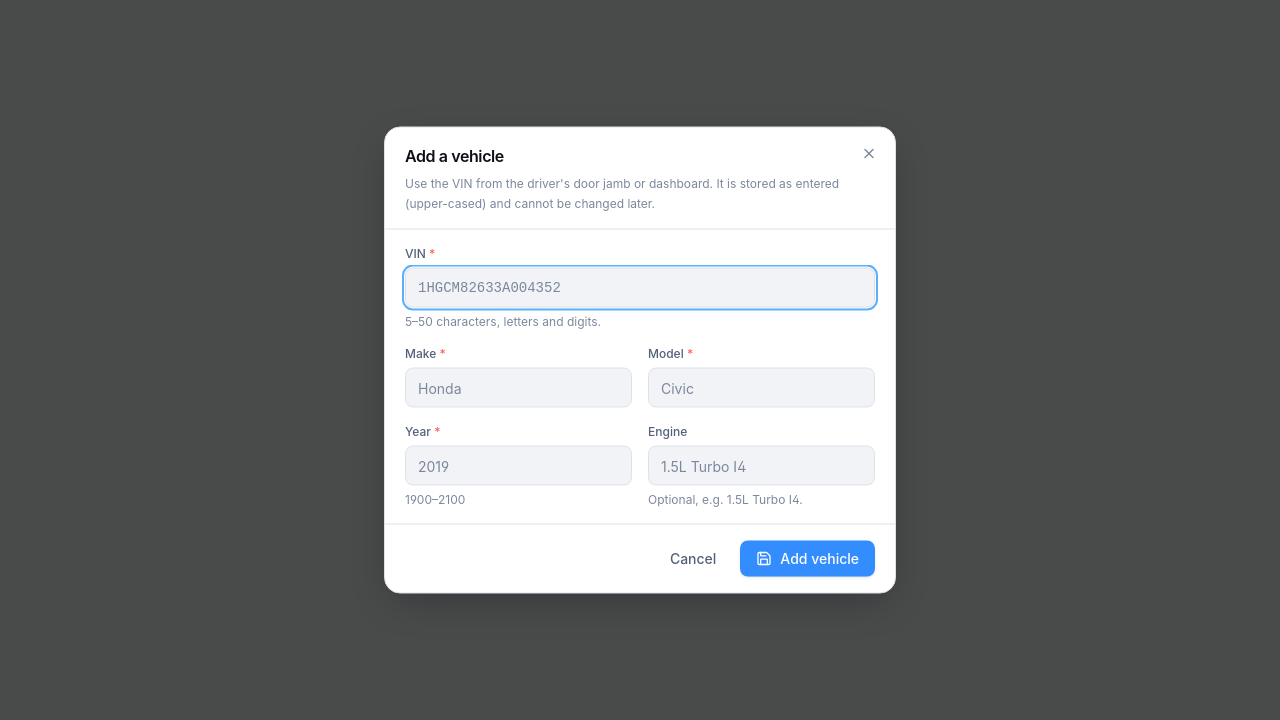
Scenario: VehicleFormDialog › enforces the backend's VIN and year bounds before submitting
The width and height of the screenshot is (1280, 720).
Click the button "Add vehicle" at x=808, y=558, box [740,540,875,576]
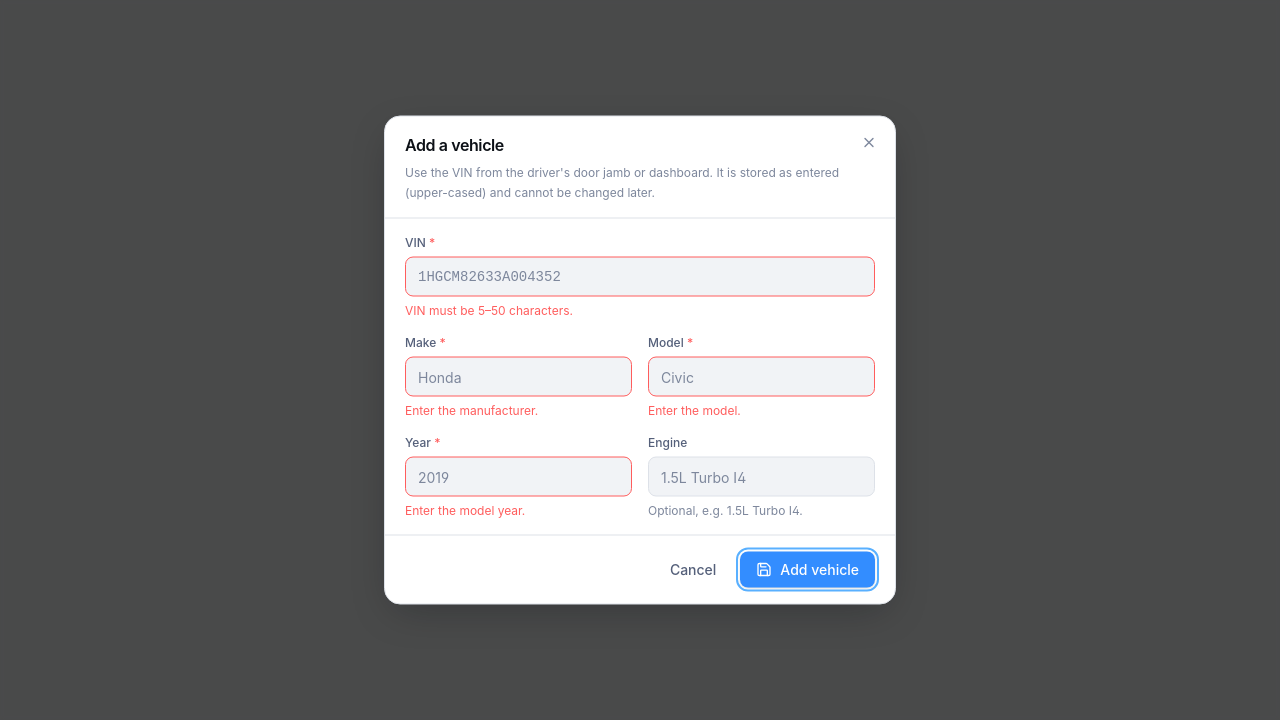
expect the text "Enter the manufacturer." is shown: met, box [405,402,538,418]
expect the text "Enter the model." is shown: met, box [648,402,741,418]
expect the text "Enter the model year." is shown: met, box [405,502,525,518]
